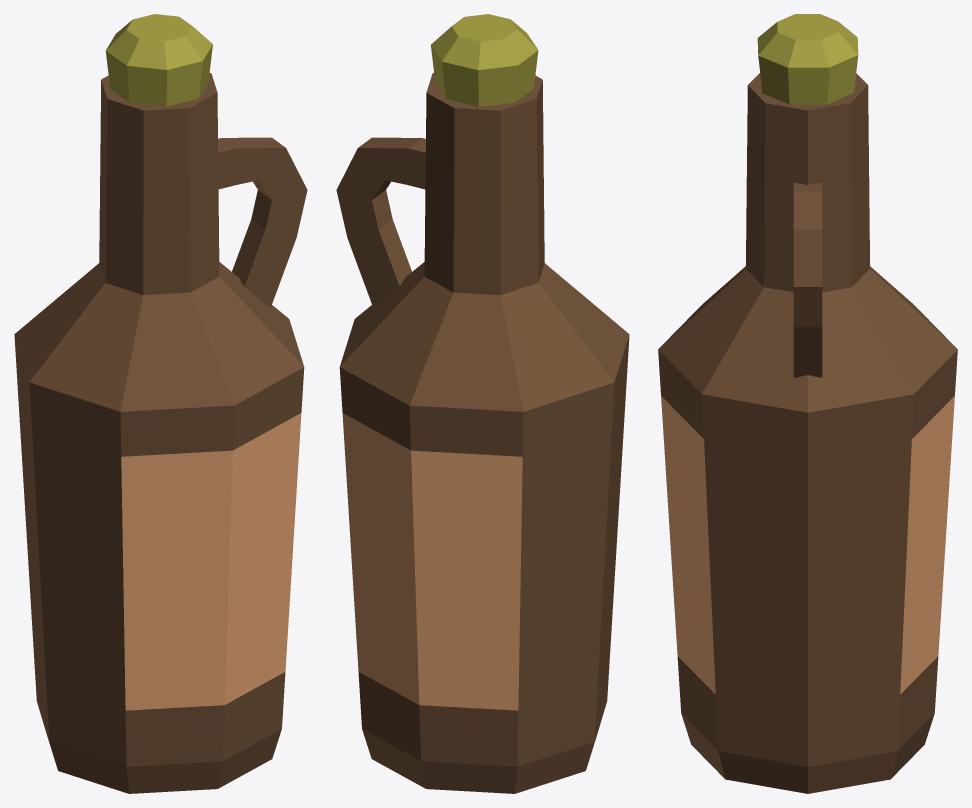
The model's file is Bottle_5_Brown.fbx.
The picture shows the model from 3 angles, left to right: view 1: azimuth 30°, elevation 25°; view 2: azimuth 150°, elevation 25°; view 3: azimuth 270°, elevation 25°; orthographic projection.
Visible parts, largest first — view 1: Bottle_5_Brown_Part_1, Bottle_5_Brown_Part_2, Bottle_5_Brown_Part_3; view 2: Bottle_5_Brown_Part_1, Bottle_5_Brown_Part_2, Bottle_5_Brown_Part_3; view 3: Bottle_5_Brown_Part_1, Bottle_5_Brown_Part_2, Bottle_5_Brown_Part_3.
Boxes of the visible parts, x1=… form: Bottle_5_Brown_Part_1: x1=14, y1=73, x2=307, y2=793; Bottle_5_Brown_Part_2: x1=121, y1=413, x2=301, y2=710; Bottle_5_Brown_Part_3: x1=105, y1=14, x2=212, y2=106; Bottle_5_Brown_Part_1: x1=336, y1=73, x2=629, y2=793; Bottle_5_Brown_Part_2: x1=342, y1=413, x2=522, y2=710; Bottle_5_Brown_Part_3: x1=431, y1=14, x2=538, y2=106; Bottle_5_Brown_Part_1: x1=658, y1=73, x2=957, y2=793; Bottle_5_Brown_Part_2: x1=661, y1=396, x2=954, y2=694; Bottle_5_Brown_Part_3: x1=757, y1=14, x2=858, y2=104.
Bounding box in the file's own units: 12.08 × 30.59 × 11.58.
